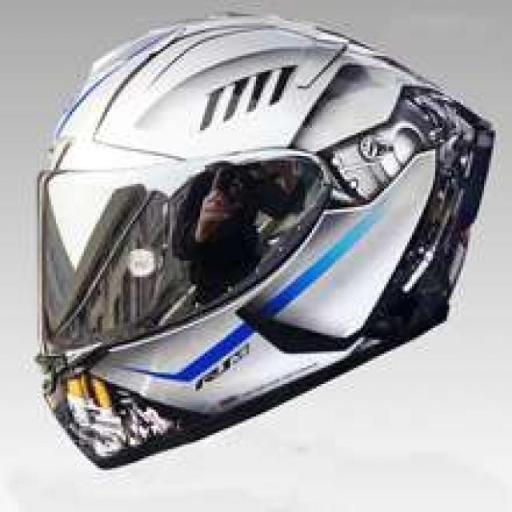Helmet: (39, 16, 493, 467)
